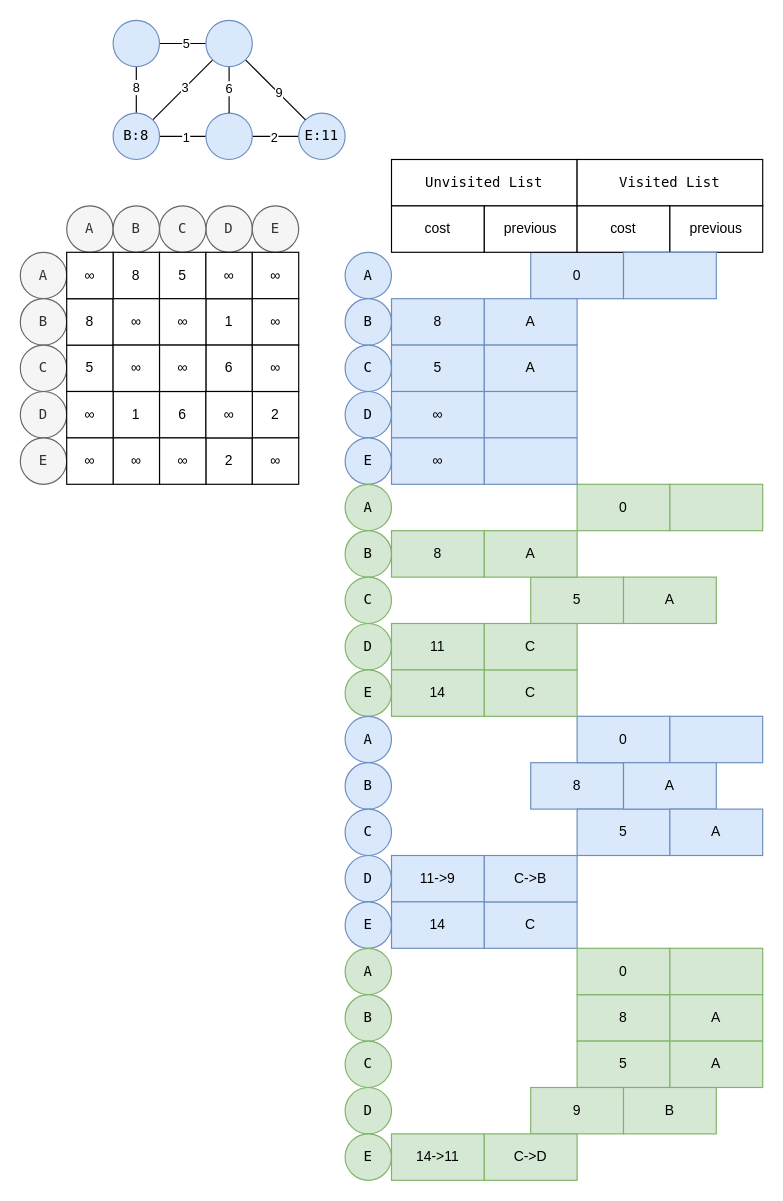
Some shapes in this 783 by 1201 pixel diagram are drawn without their labels. The shapes that lost their labels are listed below. From the top down, each one's centre as x and y in pixels, then its label:
the point at 136,43: A:0
the point at 228,43: C:5
the point at 228,136: D:9
